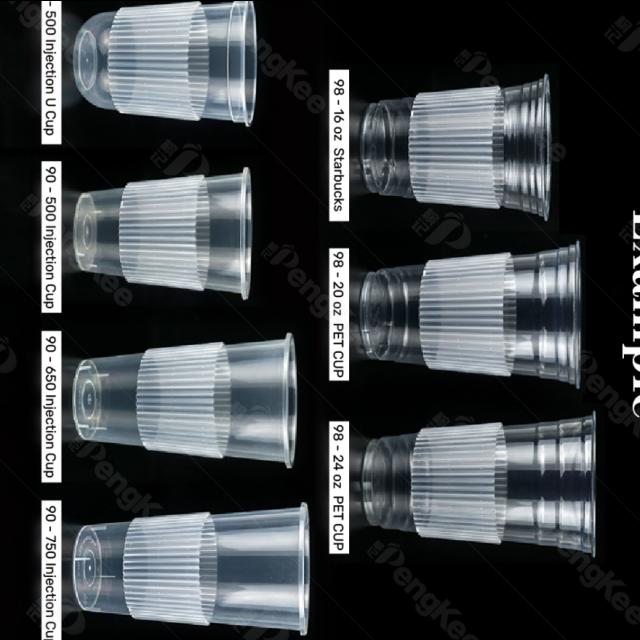plastik: (363, 413, 595, 553), (361, 241, 581, 387), (74, 503, 310, 633), (73, 332, 297, 467), (361, 74, 551, 219), (74, 167, 251, 298), (73, 0, 257, 125)
